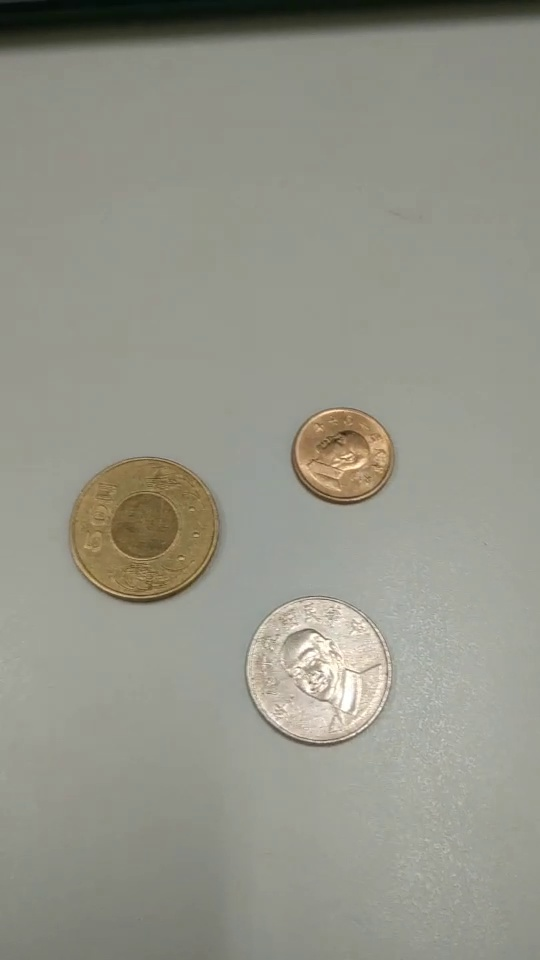NT$ 1: (290, 405, 397, 509)
NT$ 10: (243, 595, 397, 750)
NT$ 50: (68, 459, 221, 605)
